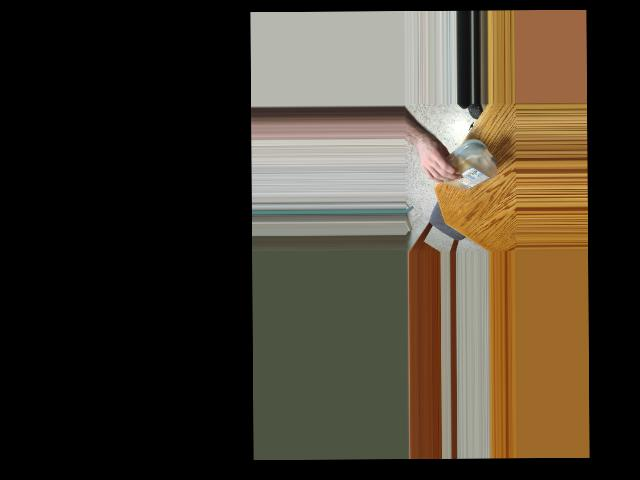cheese: (433, 140, 499, 193)
